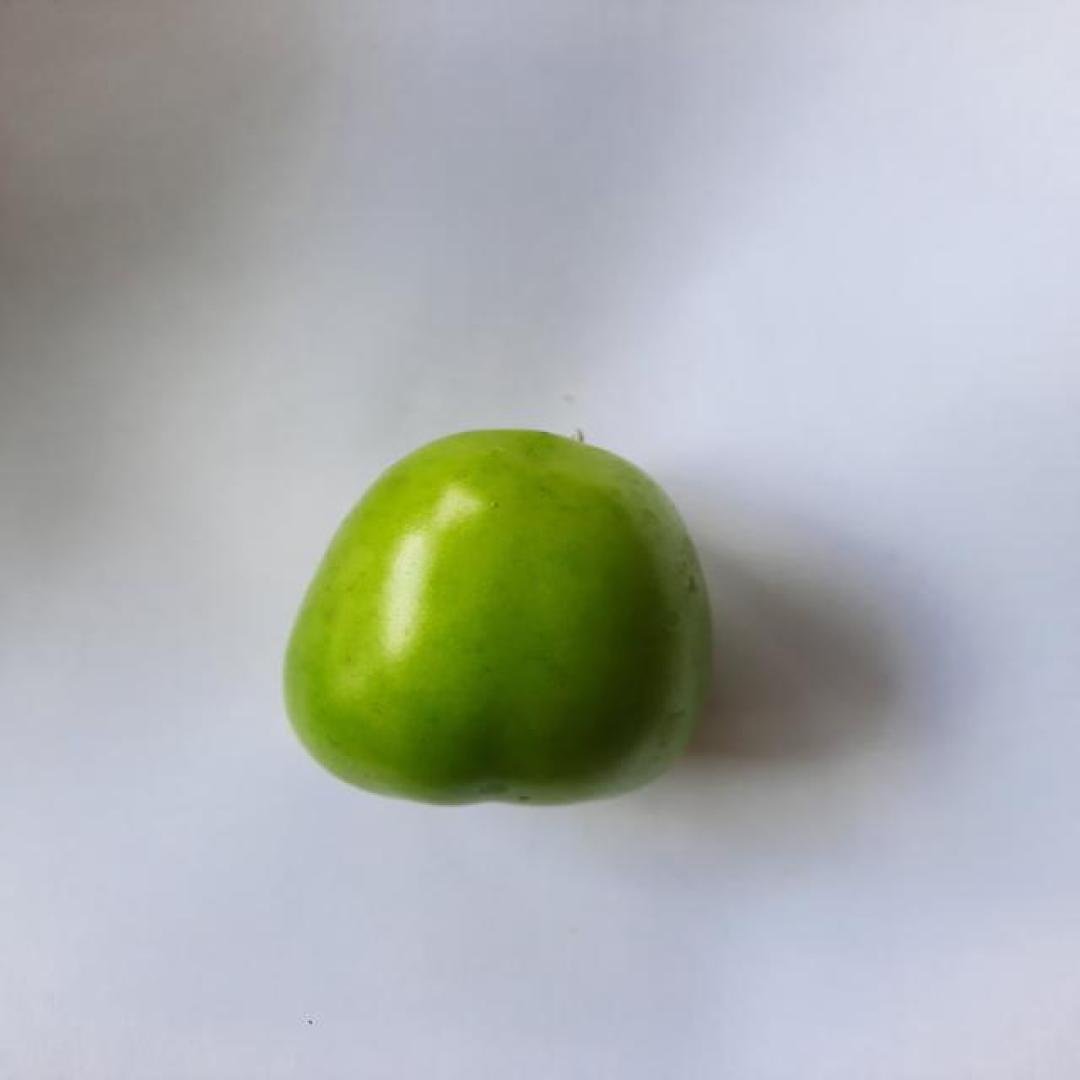mentah: (276, 427, 720, 812)
